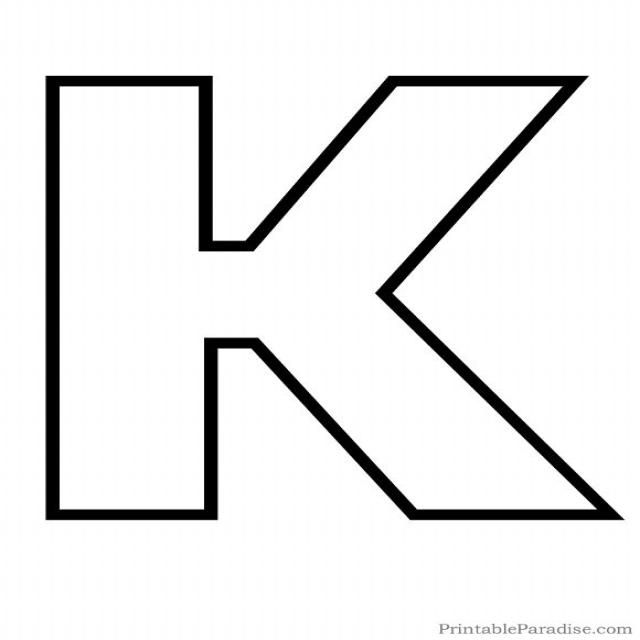K: (9, 44, 630, 594)
